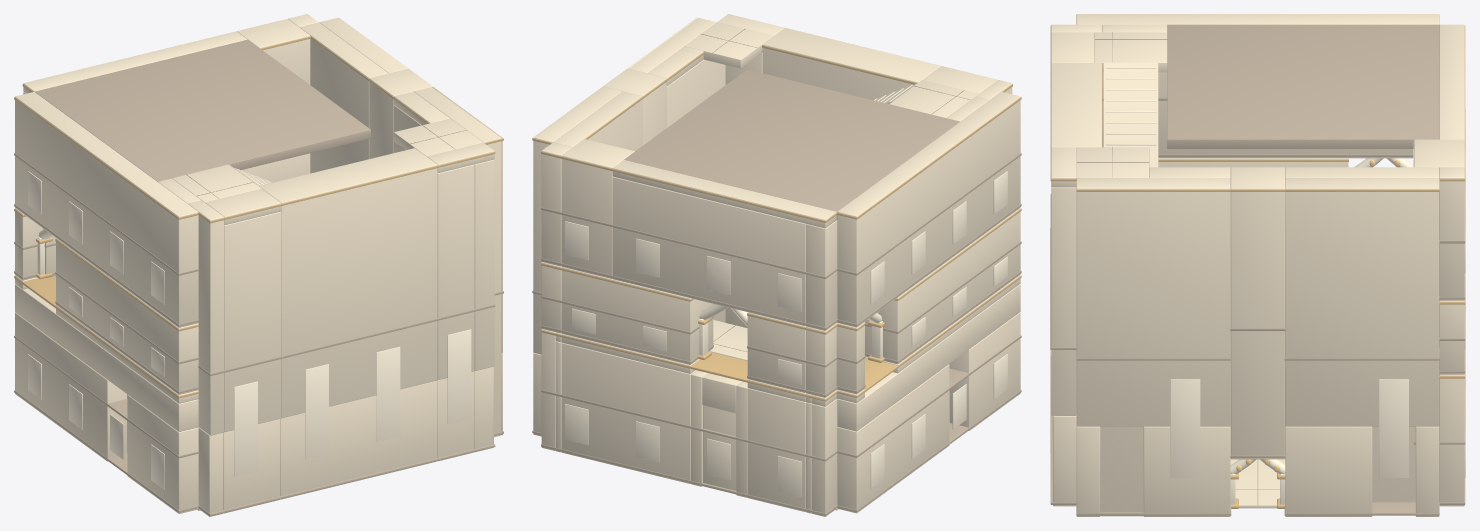
The model's file is castle_district_keep_purified.glb.
3 views of the same model, side by side, from view 1: azimuth 30°, elevation 25°; view 2: azimuth 150°, elevation 25°; view 3: azimuth 270°, elevation 25° (orthographic). The views are drawn at different scales.
Parts seen in each view (by area): view 1: castle_district_keep_purified_surface; view 2: castle_district_keep_purified_surface; view 3: castle_district_keep_purified_surface.
Boxes of the visible parts, left/top/right/bottom form: castle_district_keep_purified_surface: left=14, top=14, right=503, bottom=516; castle_district_keep_purified_surface: left=532, top=14, right=1021, bottom=516; castle_district_keep_purified_surface: left=1050, top=14, right=1465, bottom=516.
Size of the model in its own units: 22.88 by 20.62 by 22.88.
